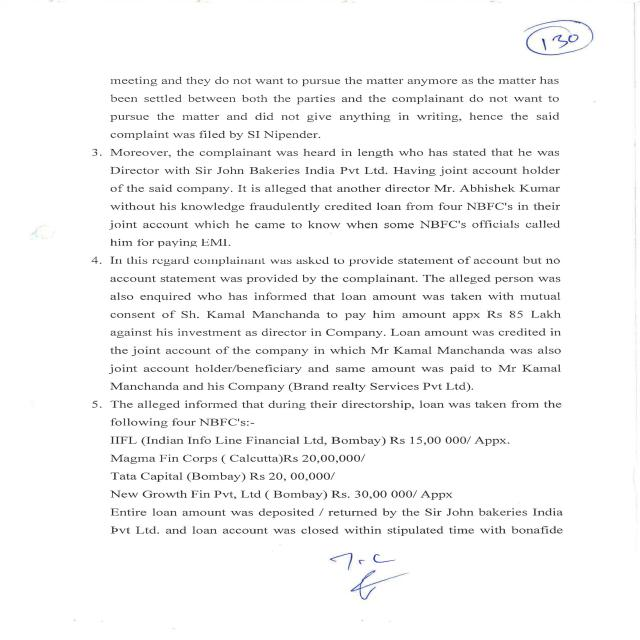page-number: (470, 0, 640, 71)
